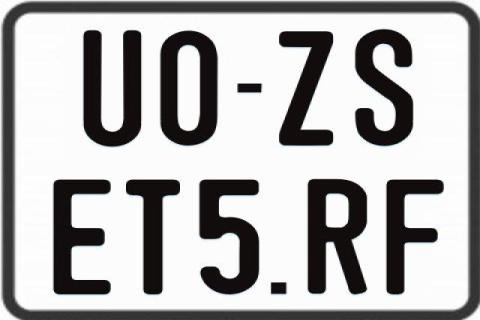0: (196, 178, 260, 294), (159, 28, 218, 146)
E: (50, 178, 111, 296)
F: (386, 179, 447, 299)
R: (308, 178, 372, 296)
S: (355, 30, 417, 150)
T: (126, 178, 181, 292)
U: (83, 31, 145, 151)
Z: (276, 30, 335, 150)
